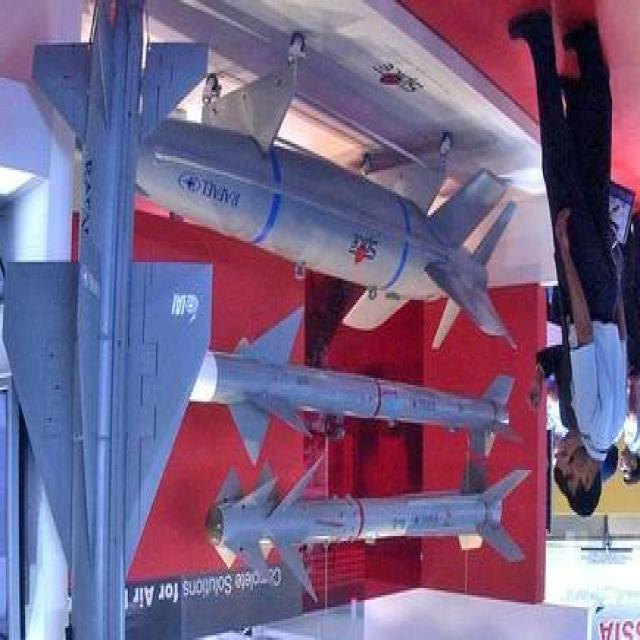missile: (179, 320, 519, 467), (202, 458, 528, 600)
